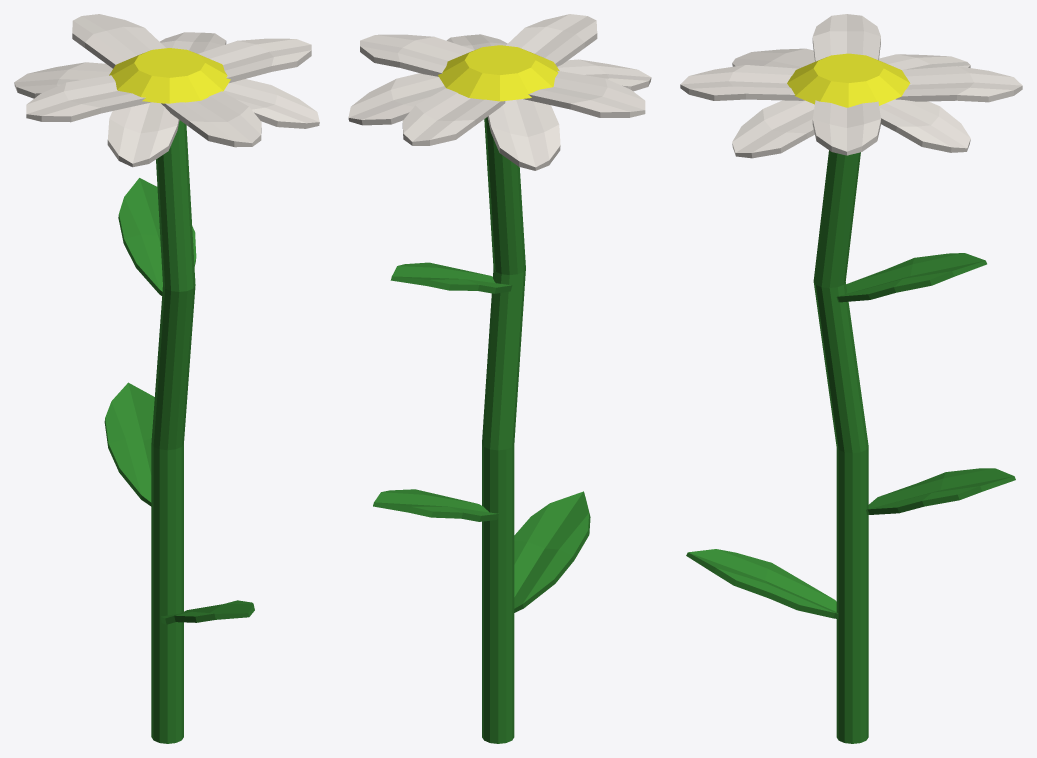
File: Flower1.1.fbx
3 renders of one model, left to right at view 1: azimuth 30°, elevation 25°; view 2: azimuth 150°, elevation 25°; view 3: azimuth 270°, elevation 25°, orthographic.
Visible parts, largest first — view 1: Flower1.1; view 2: Flower1.1; view 3: Flower1.1.
Part boxes in pixels (x1,y1,x2,y2): Flower1.1: (14, 14, 319, 743); Flower1.1: (348, 14, 651, 743); Flower1.1: (680, 14, 1022, 743).
Bounding box in the file's own units: 14.6 × 33.04 × 15.33.
